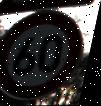Speed Limit -60-: (0, 7, 93, 101)
